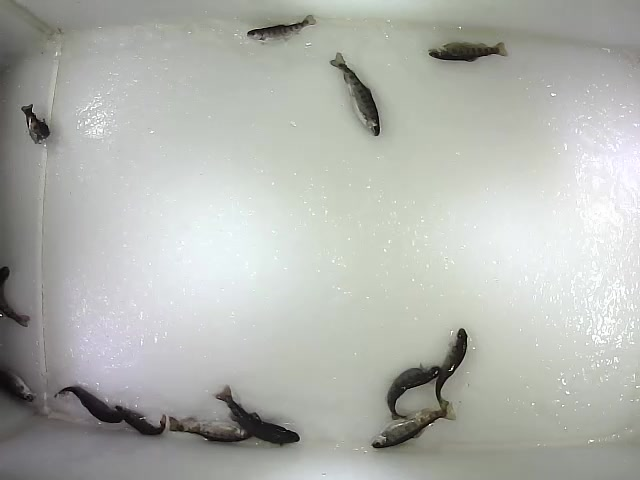fish: (213, 383, 302, 449), (328, 50, 382, 138), (370, 402, 456, 450), (385, 364, 441, 422), (435, 326, 469, 416), (51, 384, 124, 425), (167, 414, 255, 446), (245, 12, 320, 48), (427, 39, 510, 65), (113, 404, 166, 437), (18, 102, 52, 146)
